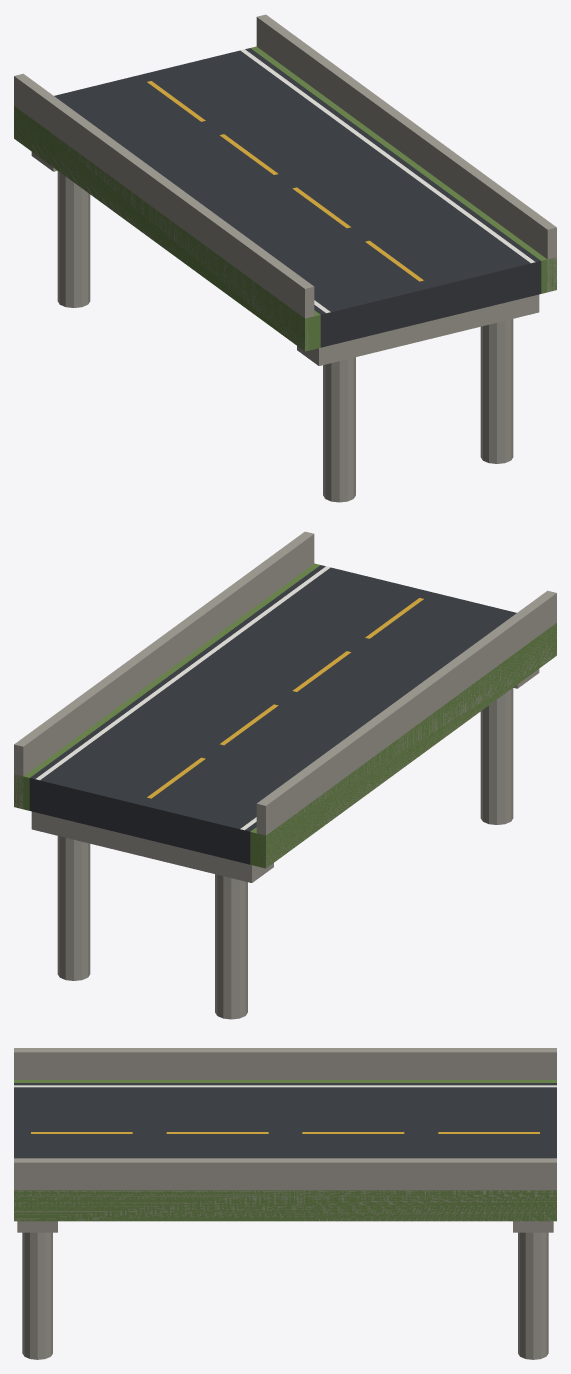
File: Bridge_Overpass_2Lane_NoSidewalk_16m.glb
3 views of the same model, one above another, from view 1: azimuth 30°, elevation 25°; view 2: azimuth 150°, elevation 25°; view 3: azimuth 270°, elevation 25° (orthographic). The views are drawn at different scales.
Parts seen in each view (by area): view 1: Bridge_Overpass_2Lane_NoSidewalk_16m_Asphalt, Bridge_Overpass_2Lane_NoSidewalk_16m_Concrete, Bridge_Overpass_2Lane_NoSidewalk_16m_Grass-edge, Bridge_Overpass_2Lane_NoSidewalk_16m_PaintWhite, Bridge_Overpass_2Lane_NoSidewalk_16m_PaintYellow; view 2: Bridge_Overpass_2Lane_NoSidewalk_16m_Asphalt, Bridge_Overpass_2Lane_NoSidewalk_16m_Concrete, Bridge_Overpass_2Lane_NoSidewalk_16m_Grass-edge, Bridge_Overpass_2Lane_NoSidewalk_16m_PaintWhite, Bridge_Overpass_2Lane_NoSidewalk_16m_PaintYellow; view 3: Bridge_Overpass_2Lane_NoSidewalk_16m_Concrete, Bridge_Overpass_2Lane_NoSidewalk_16m_Asphalt, Bridge_Overpass_2Lane_NoSidewalk_16m_Grass-edge, Bridge_Overpass_2Lane_NoSidewalk_16m_PaintWhite, Bridge_Overpass_2Lane_NoSidewalk_16m_PaintYellow.
Boxes of the visible parts, x1,y1,x2,y2 form: Bridge_Overpass_2Lane_NoSidewalk_16m_Asphalt: (54,48,541,347); Bridge_Overpass_2Lane_NoSidewalk_16m_Concrete: (14,14,556,502); Bridge_Overpass_2Lane_NoSidewalk_16m_Grass-edge: (14,46,556,351); Bridge_Overpass_2Lane_NoSidewalk_16m_PaintWhite: (240,49,535,313); Bridge_Overpass_2Lane_NoSidewalk_16m_PaintYellow: (147,81,423,281); Bridge_Overpass_2Lane_NoSidewalk_16m_Asphalt: (29,565,516,864); Bridge_Overpass_2Lane_NoSidewalk_16m_Concrete: (14,531,556,1019); Bridge_Overpass_2Lane_NoSidewalk_16m_Grass-edge: (14,563,556,868); Bridge_Overpass_2Lane_NoSidewalk_16m_PaintWhite: (35,566,330,830); Bridge_Overpass_2Lane_NoSidewalk_16m_PaintYellow: (147,598,423,798); Bridge_Overpass_2Lane_NoSidewalk_16m_Concrete: (14,1048,556,1359); Bridge_Overpass_2Lane_NoSidewalk_16m_Asphalt: (14,1083,556,1158); Bridge_Overpass_2Lane_NoSidewalk_16m_Grass-edge: (14,1080,556,1221); Bridge_Overpass_2Lane_NoSidewalk_16m_PaintWhite: (14,1085,556,1087); Bridge_Overpass_2Lane_NoSidewalk_16m_PaintYellow: (31,1132,539,1133).
Size of the model in its own units: 8 by 6.9 by 16.
